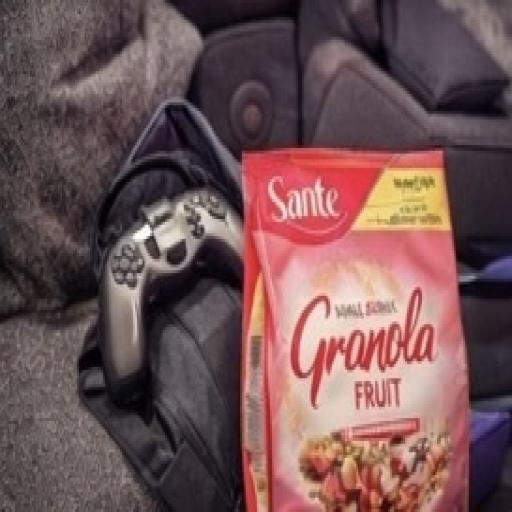granola: (193, 126, 490, 512)
